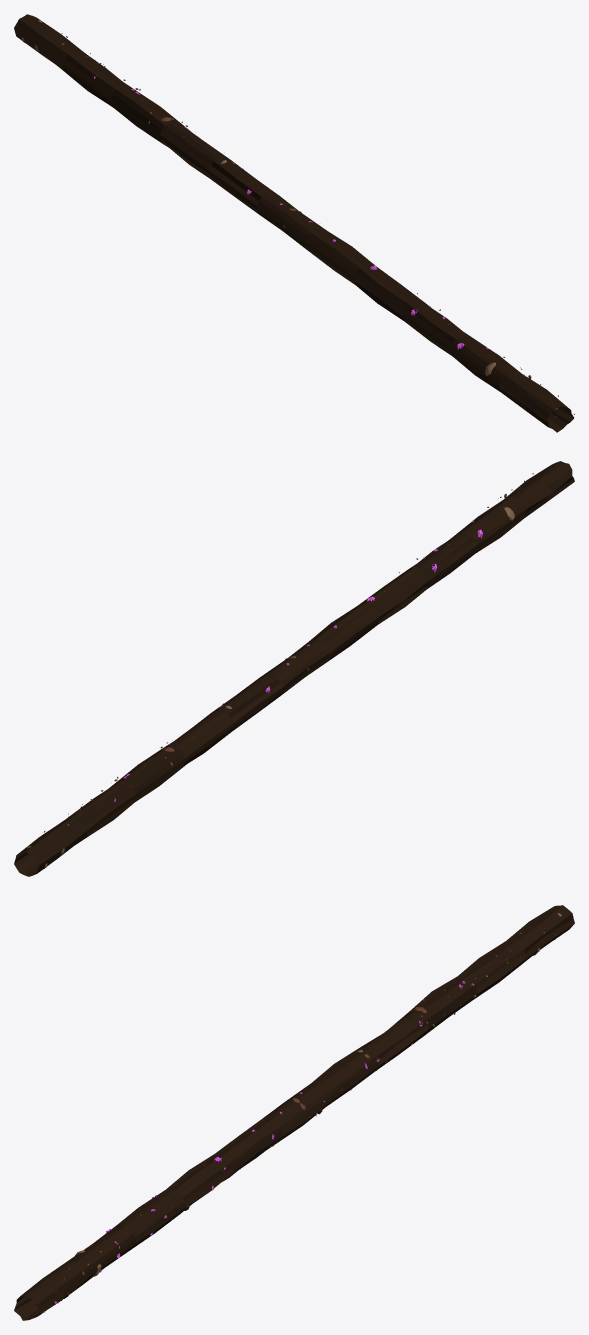
Rendered from rocky-alien-level-m.glb.
3 views of the same model, one above another, from view 1: azimuth 30°, elevation 25°; view 2: azimuth 150°, elevation 25°; view 3: azimuth 330°, elevation 25° (orthographic).
Visible parts, largest first — view 1: mine.001; view 2: mine.001; view 3: mine.001.
Boxes of the visible parts, x1=… form: mine.001: x1=14, y1=14, x2=573, y2=432; mine.001: x1=14, y1=461, x2=574, y2=876; mine.001: x1=14, y1=905, x2=574, y2=1320.
Bounding box in the file's own units: 33.69 × 28.64 × 999.
Materials: 6 (6 with a texture image).
